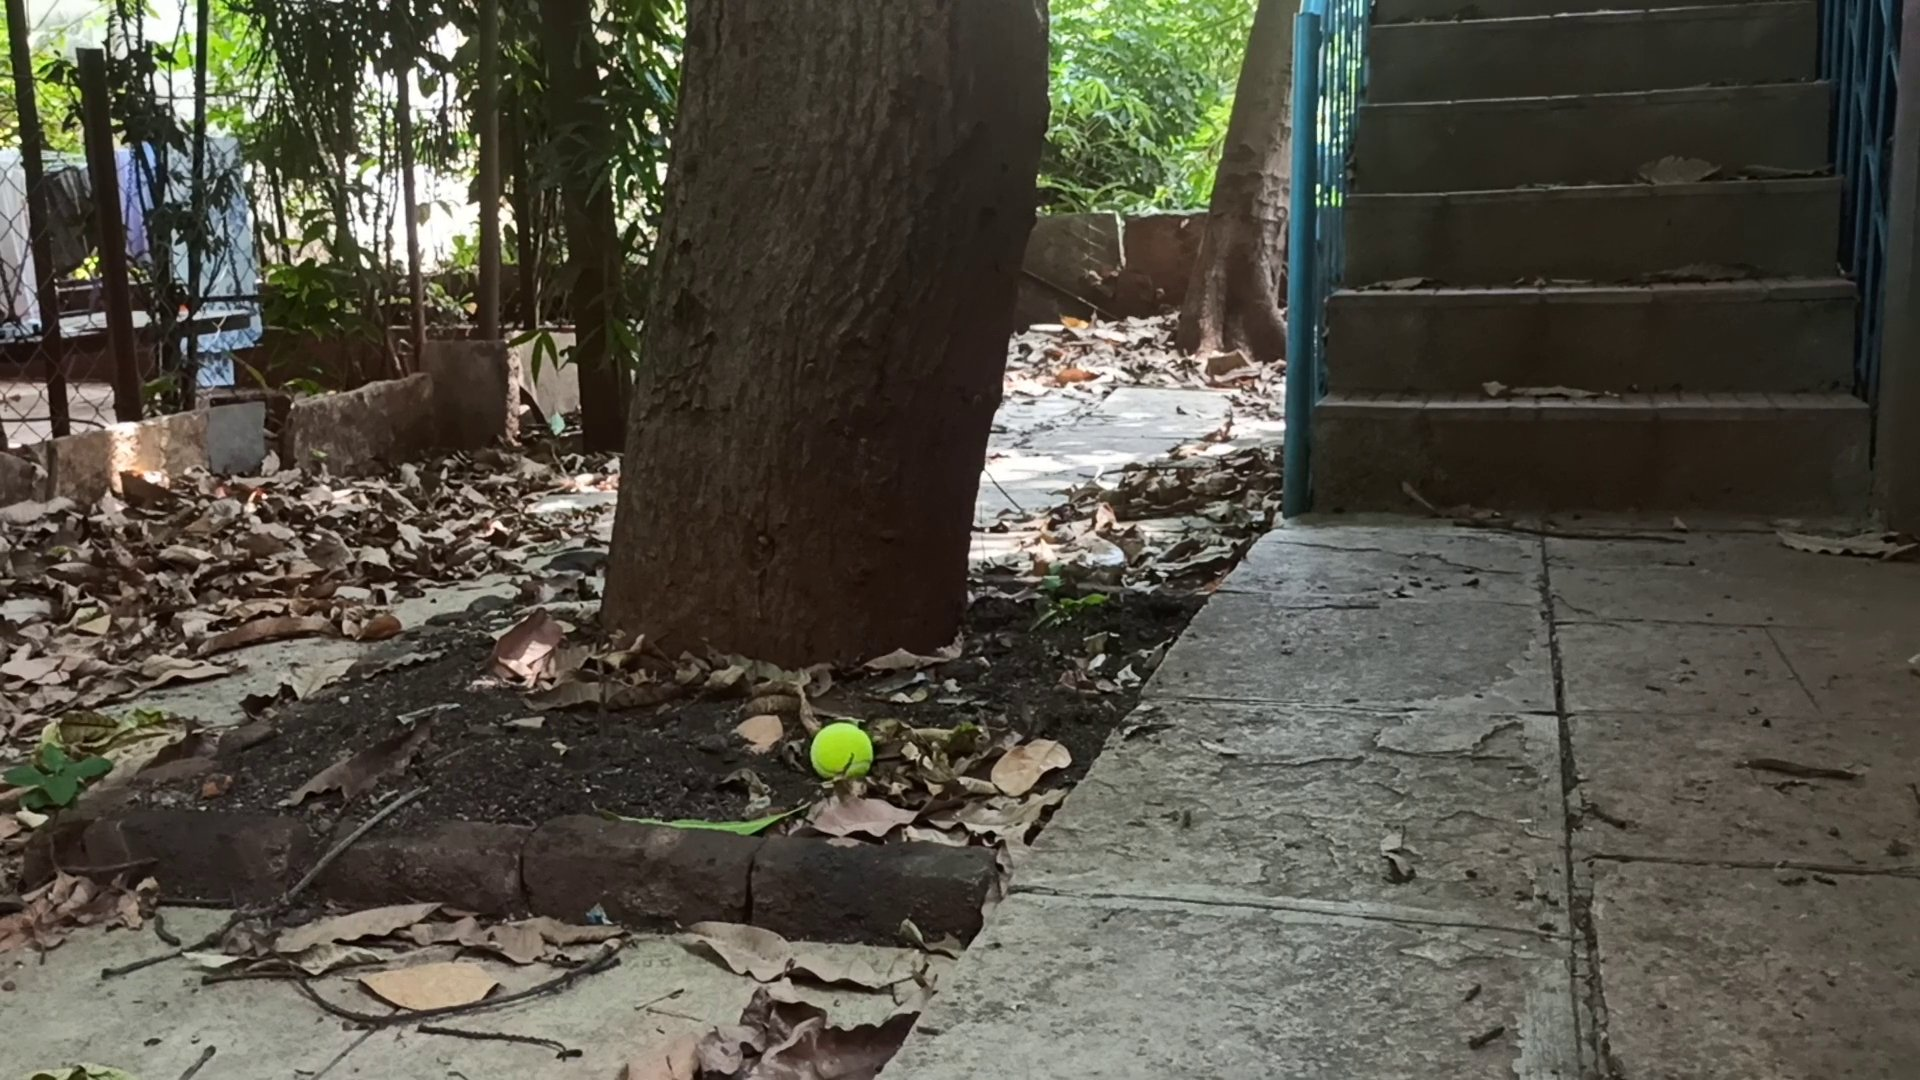Tennis-Ball: (811, 723, 873, 779)
